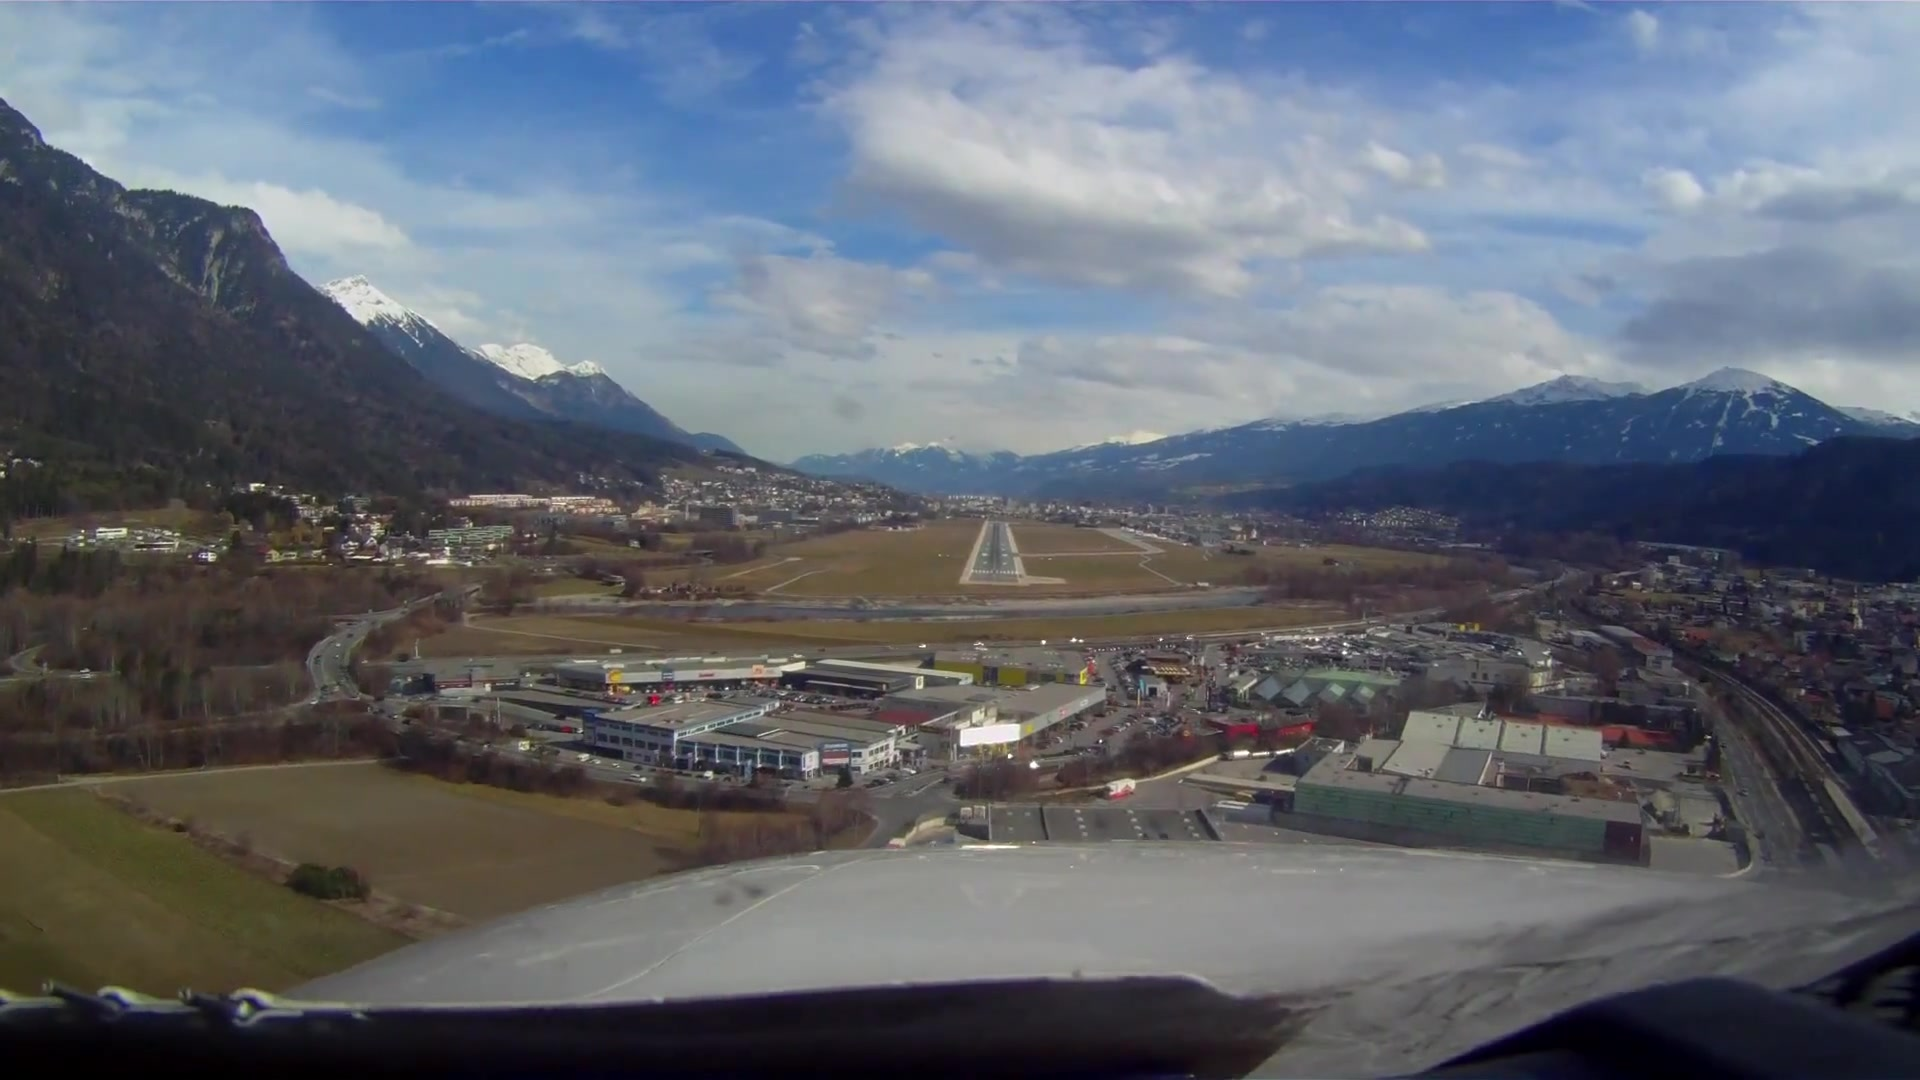entrance: (969, 568, 1018, 575)
runway: (965, 521, 1026, 578)
